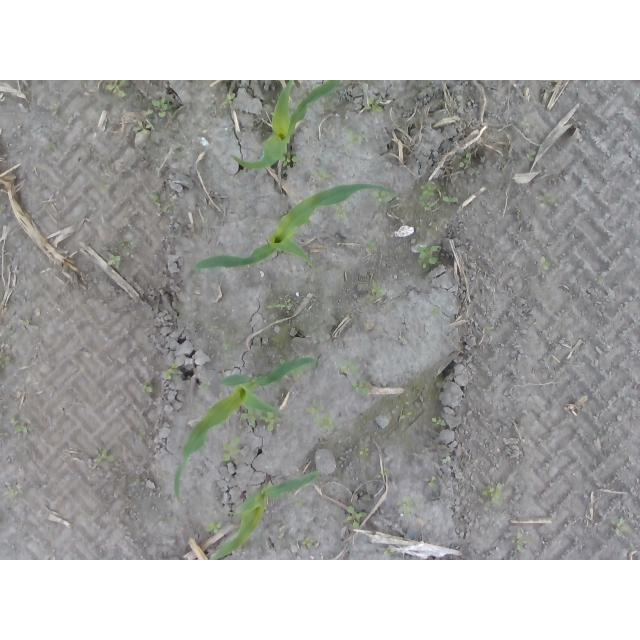Maize: (173, 356, 319, 500), (197, 184, 399, 277), (230, 80, 344, 170), (211, 470, 324, 558)
Weeds: (339, 362, 371, 399), (307, 400, 338, 432), (242, 405, 278, 432), (422, 180, 454, 208), (209, 325, 232, 351), (417, 244, 440, 269), (344, 507, 368, 530), (131, 110, 153, 135), (88, 448, 113, 468), (225, 440, 246, 461), (370, 189, 400, 203), (9, 416, 29, 436), (397, 495, 415, 517), (106, 82, 126, 99), (161, 363, 178, 382), (270, 302, 294, 315), (363, 95, 385, 109), (614, 518, 631, 536), (482, 485, 502, 500), (281, 156, 300, 170), (153, 98, 168, 115), (108, 253, 125, 268), (312, 170, 332, 182), (516, 532, 528, 552), (346, 129, 362, 143), (4, 483, 20, 497), (459, 154, 473, 169), (147, 194, 163, 207), (430, 418, 448, 429), (373, 283, 387, 297), (209, 521, 223, 535), (357, 448, 373, 460), (539, 195, 558, 205), (336, 202, 347, 218), (222, 93, 235, 106), (539, 257, 550, 271), (427, 476, 438, 490), (304, 539, 317, 550), (366, 242, 376, 254), (442, 456, 455, 465), (145, 385, 152, 394)
